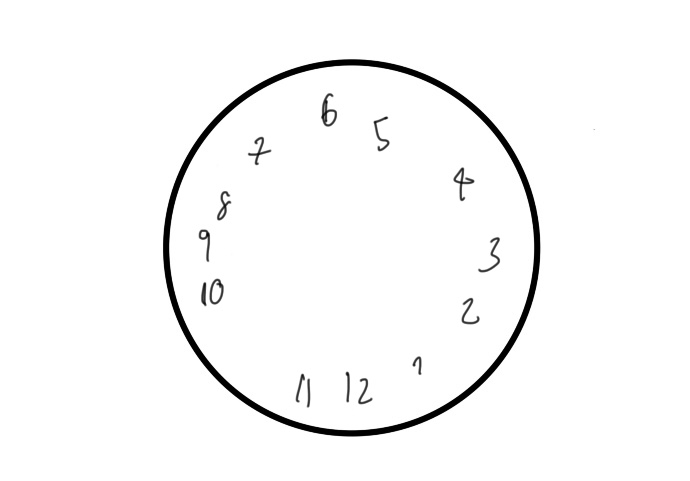eight: (214, 186, 236, 224)
eleven: (291, 368, 316, 410)
five: (371, 112, 391, 153)
four: (450, 164, 475, 202)
nine: (196, 226, 214, 263)
one: (411, 354, 425, 379)
seven: (247, 134, 273, 168)
six: (320, 89, 337, 129)
ten: (198, 275, 227, 309)
three: (476, 233, 501, 276)
twelve: (341, 368, 375, 409)
two: (459, 295, 483, 326)
